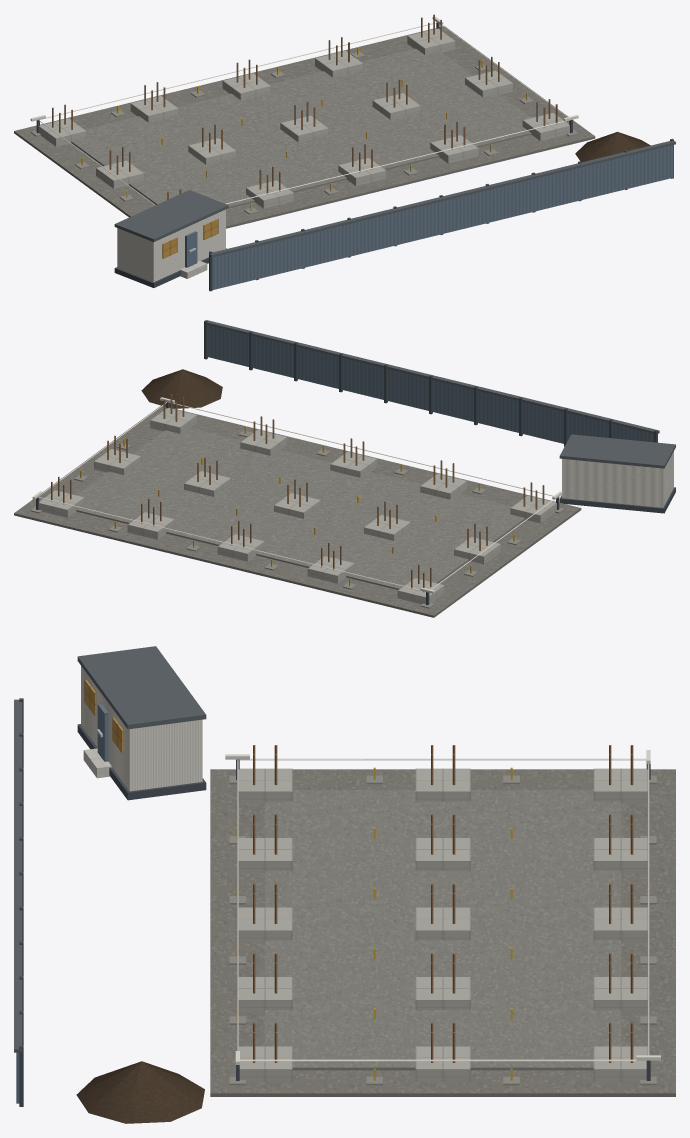
File: el-1-site.glb
The picture shows the model from 3 angles, top to bottom: view 1: azimuth 30°, elevation 25°; view 2: azimuth 150°, elevation 25°; view 3: azimuth 270°, elevation 25°; orthographic projection. The views are drawn at different scales.
Bounding box in the file's own units: 34.73 × 3.1 × 24.17.
17 materials, 9 textured.
